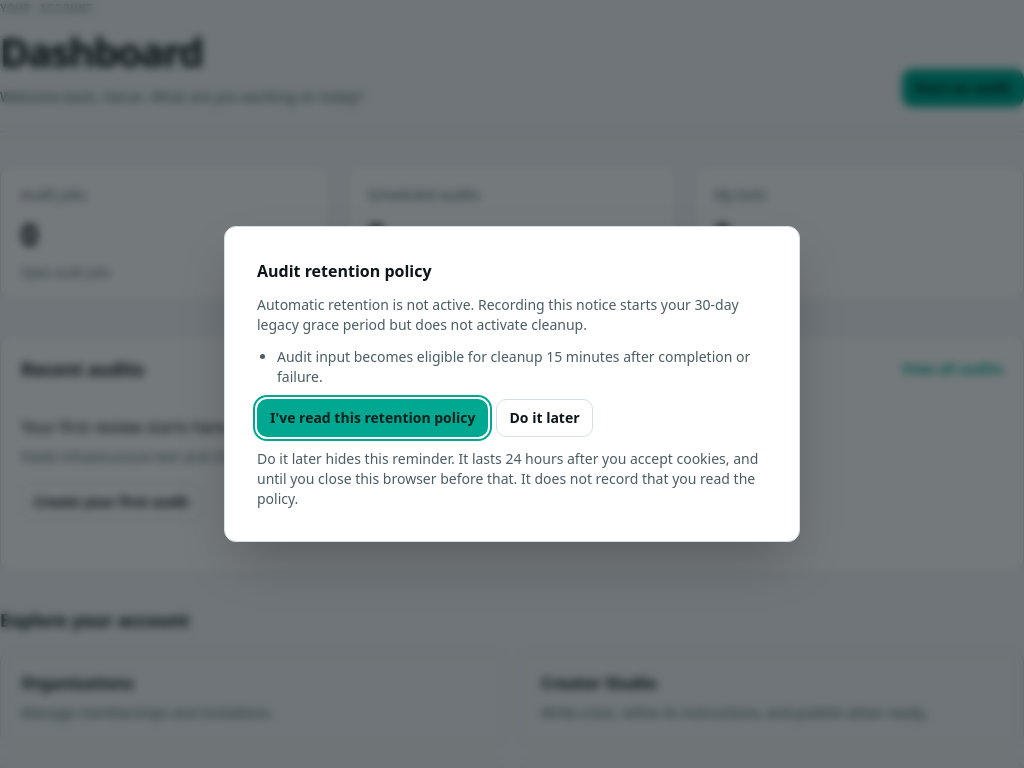
Test: hides the popup without a reminder cookie until optional cookies are allowed
Click the button "Do it later" at (545,418), box [496,399,593,437]
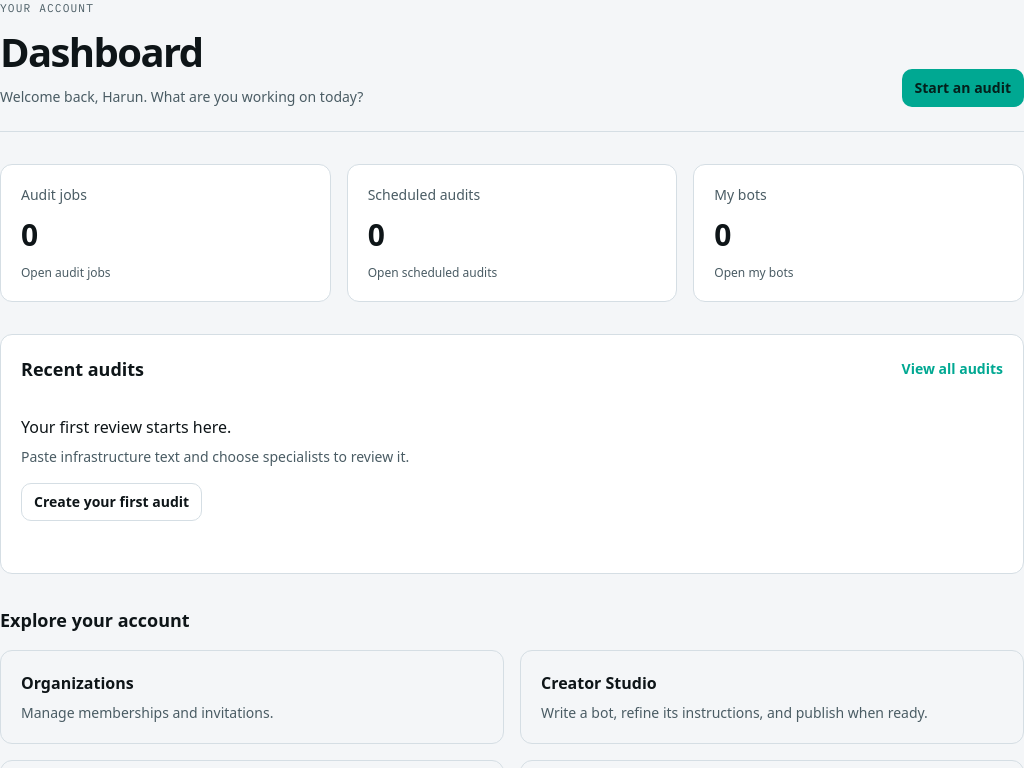
Now the dialog is gone
